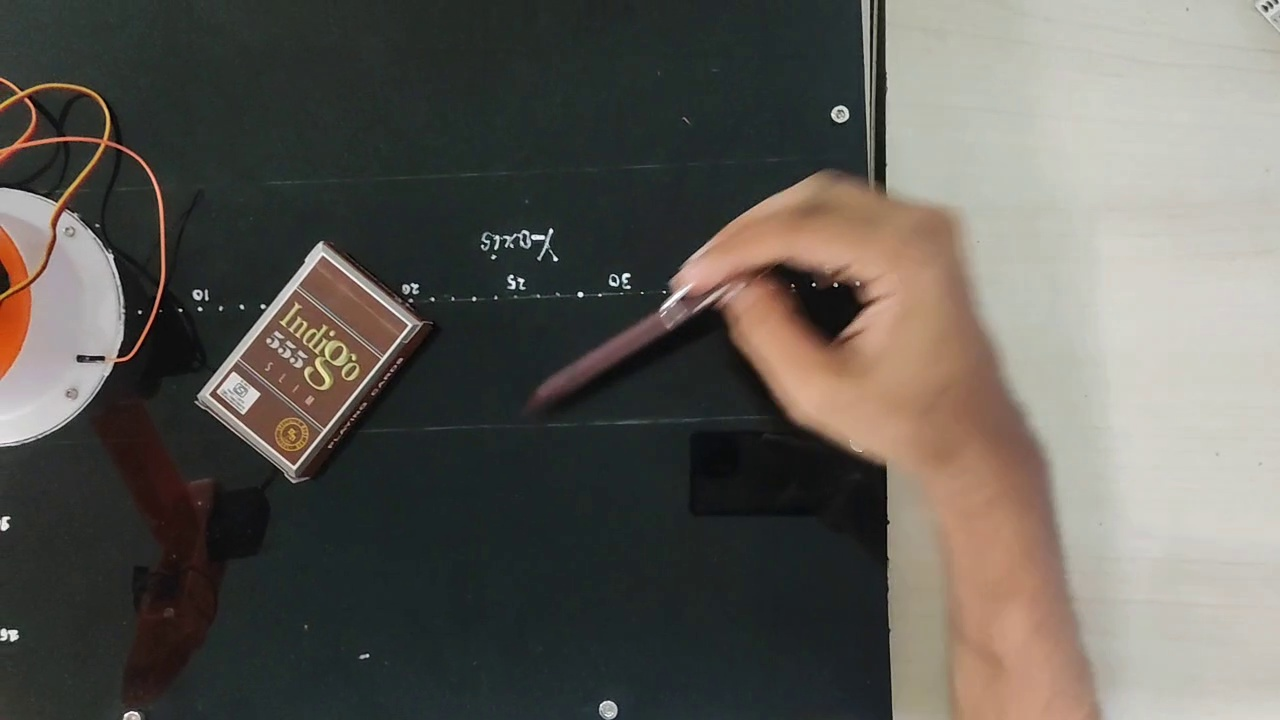BEX: (206, 254, 410, 466)
